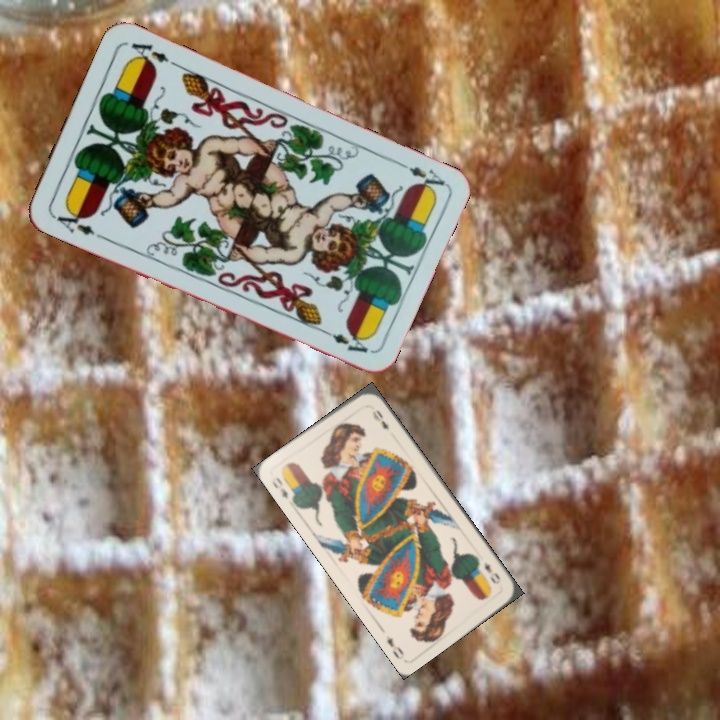EA: (391, 156, 447, 196), (49, 203, 105, 241)
EO: (480, 558, 503, 587), (268, 473, 291, 502)
